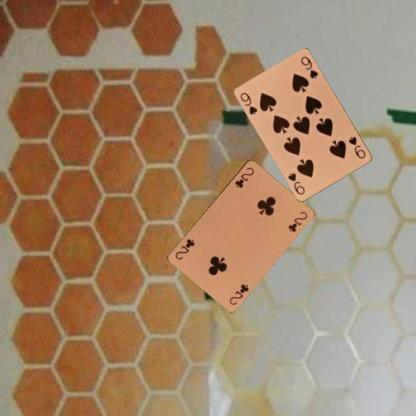2c: (226, 280, 250, 306), (233, 164, 256, 189)
9s: (346, 134, 367, 160), (238, 90, 259, 116)
